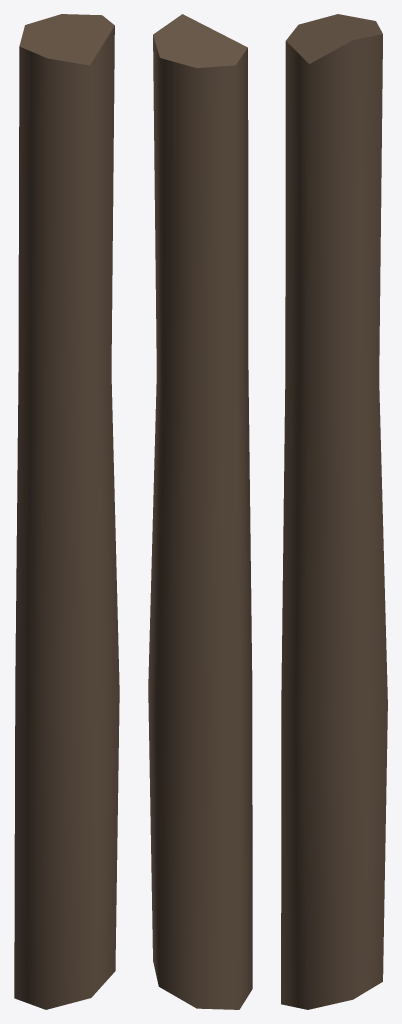
File: groyne-post-3.glb
3 views of the same model, side by side, from view 1: azimuth 30°, elevation 25°; view 2: azimuth 150°, elevation 25°; view 3: azimuth 330°, elevation 25° (orthographic). The views are drawn at different scales.
Parts seen in each view (by area): view 1: groyne-post-3; view 2: groyne-post-3; view 3: groyne-post-3.
Boxes of the visible parts, x1=… form: groyne-post-3: x1=14, y1=14, x2=119, y2=1009; groyne-post-3: x1=148, y1=14, x2=252, y2=1009; groyne-post-3: x1=281, y1=14, x2=387, y2=1009.
Size of the model in its own units: 0.393 by 3.96 by 0.3814.
